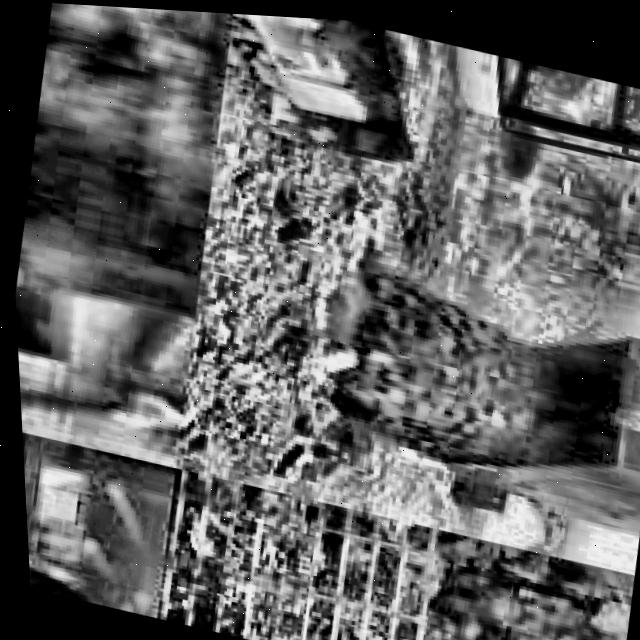excavator: (157, 7, 640, 535)
